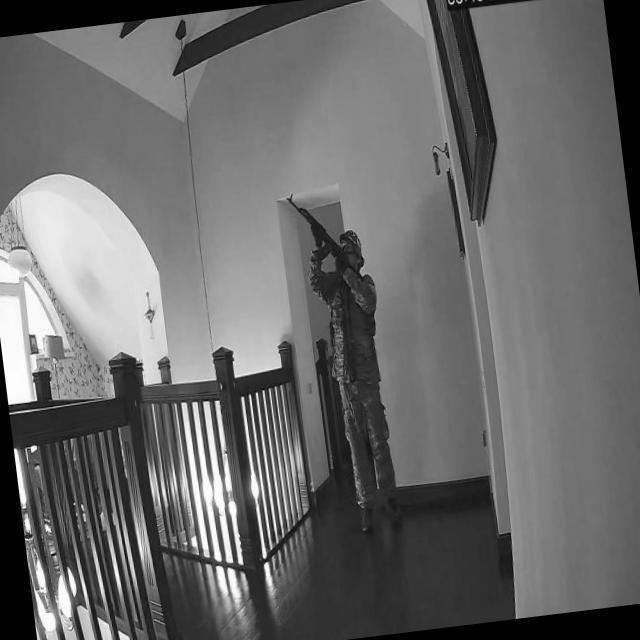gun: (284, 184, 359, 278)
person with a gun: (284, 184, 406, 541)
